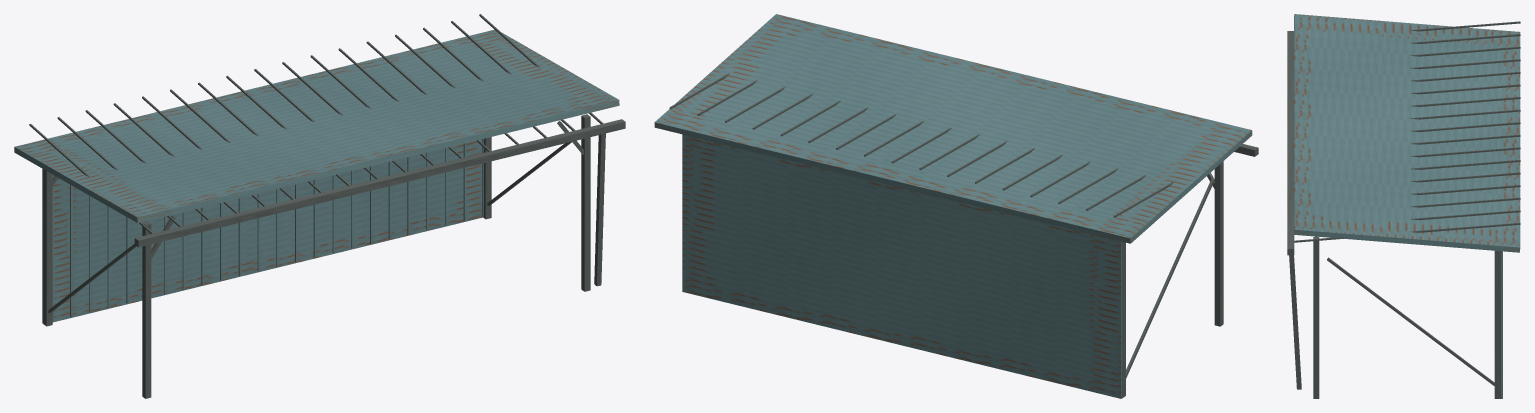
The model's file is SalvageShelter.fbx.
3 views of the same model, side by side, from view 1: azimuth 30°, elevation 25°; view 2: azimuth 150°, elevation 25°; view 3: azimuth 270°, elevation 25° (orthographic). The views are drawn at different scales.
Visible parts, largest first — view 1: SalvageShelter; view 2: SalvageShelter; view 3: SalvageShelter.
Part boxes in pixels (box(x1,y1,x2,y2)): SalvageShelter: box(14, 14, 625, 398); SalvageShelter: box(654, 14, 1258, 398); SalvageShelter: box(1287, 14, 1520, 398).
Size of the model in its own units: 910 by 345 by 411.
